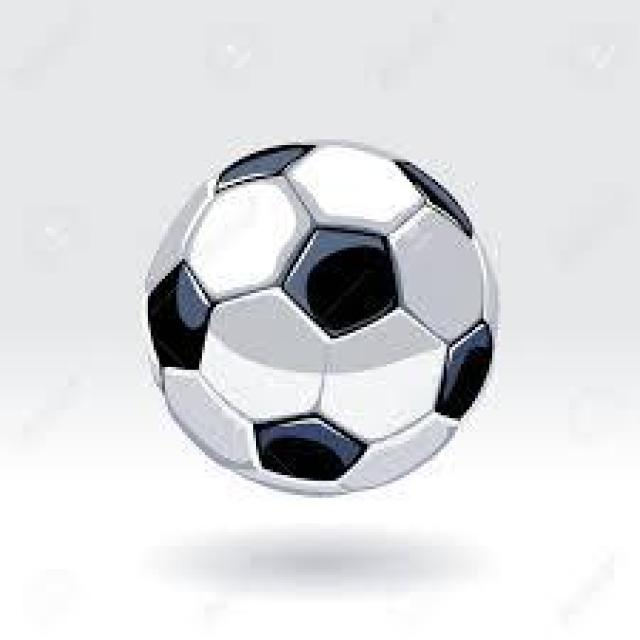Soccer Ball: (148, 142, 495, 501)
